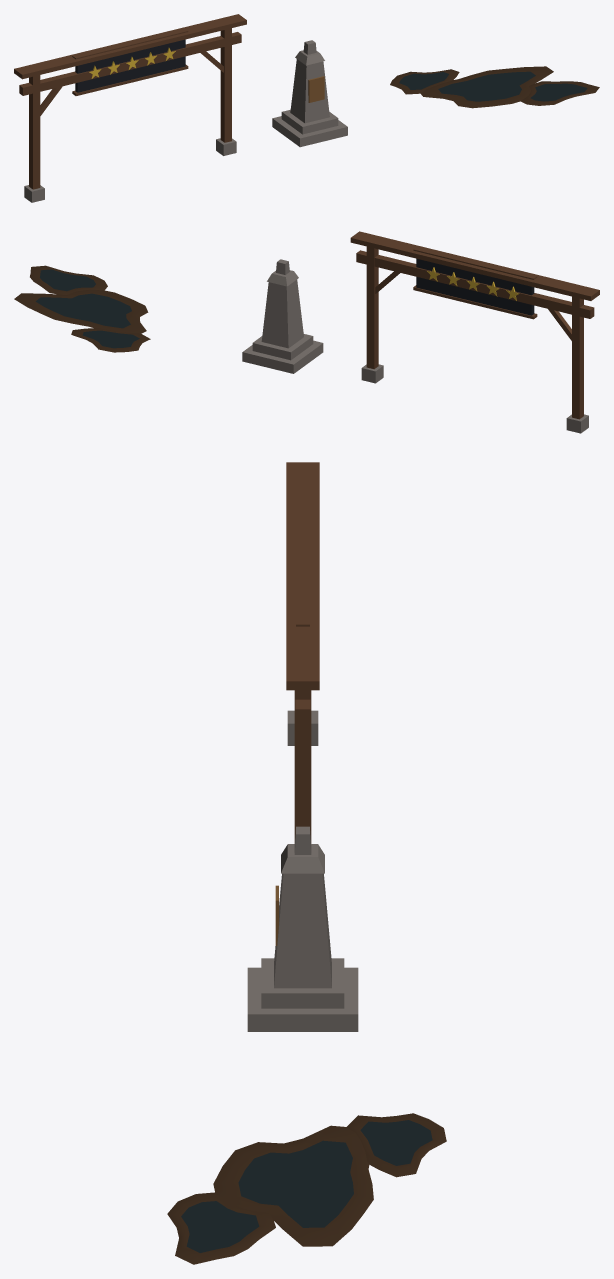
The model's file is cobble_sector_props.glb.
3 renders of one model, top to bottom at view 1: azimuth 30°, elevation 25°; view 2: azimuth 150°, elevation 25°; view 3: azimuth 270°, elevation 25°, orthographic. The views are drawn at different scales.
Visible parts, largest first — view 1: Cobble_Sector_Gate_5Star, Cobble_Mud_Puddles_Set, Cobble_Roadside_Monument; view 2: Cobble_Sector_Gate_5Star, Cobble_Mud_Puddles_Set, Cobble_Roadside_Monument; view 3: Cobble_Mud_Puddles_Set, Cobble_Roadside_Monument, Cobble_Sector_Gate_5Star.
Boxes of the visible parts, box(x1,y1,x2,y2) form: Cobble_Sector_Gate_5Star: box(14, 14, 246, 202); Cobble_Mud_Puddles_Set: box(390, 66, 599, 108); Cobble_Roadside_Monument: box(272, 40, 347, 147); Cobble_Sector_Gate_5Star: box(350, 231, 599, 433); Cobble_Mud_Puddles_Set: box(14, 265, 150, 352); Cobble_Roadside_Monument: box(242, 259, 323, 373); Cobble_Mud_Puddles_Set: box(167, 1113, 446, 1264); Cobble_Roadside_Monument: box(247, 826, 358, 1031); Cobble_Sector_Gate_5Star: box(286, 462, 319, 843).
Bounding box in the file's own units: 18.52 × 4.2 × 4.04.
